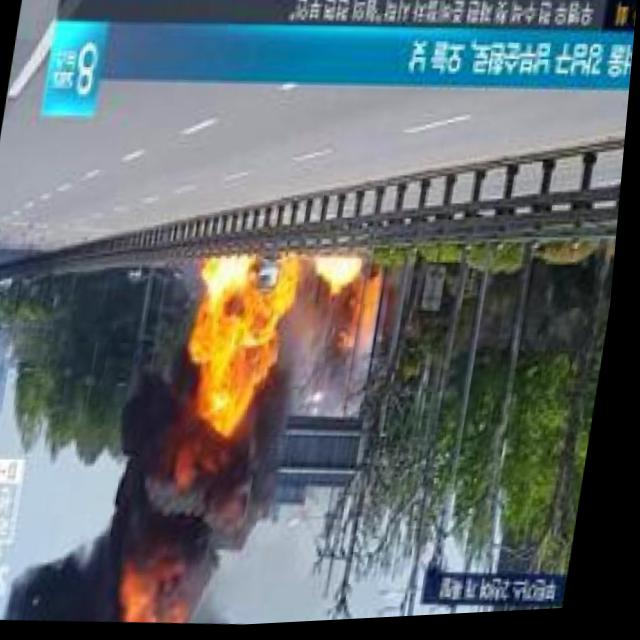Fire: (184, 254, 300, 424), (314, 257, 365, 300), (364, 284, 383, 354)
